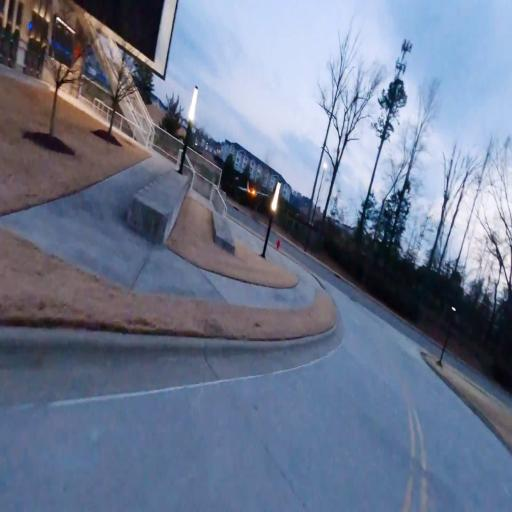uav: (236, 177, 270, 203)
